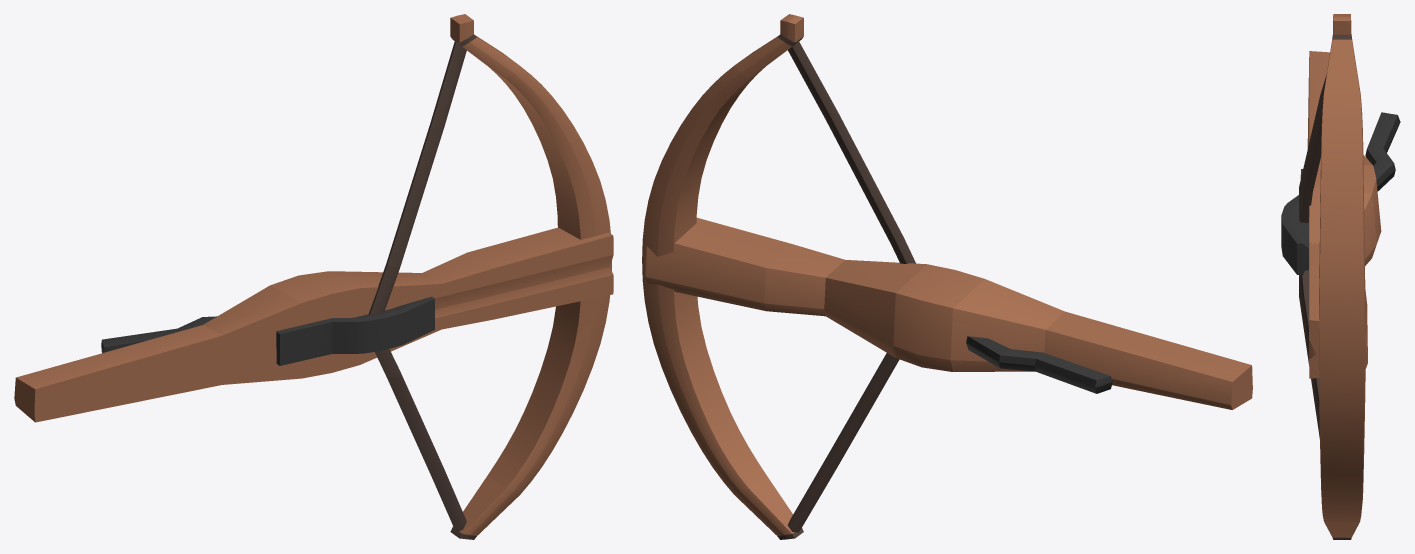
File: Bow.fbx
3 renders of one model, left to right at view 1: azimuth 30°, elevation 25°; view 2: azimuth 150°, elevation 25°; view 3: azimuth 270°, elevation 25°, orthographic.
Visible parts, largest first — view 1: Bow; view 2: Bow; view 3: Bow.
Boxes of the visible parts, x1=… form: Bow: x1=14, y1=14, x2=613, y2=539; Bow: x1=642, y1=14, x2=1252, y2=539; Bow: x1=1281, y1=14, x2=1400, y2=539.
Size of the model in its own units: 23.46 by 19.99 by 4.16.
